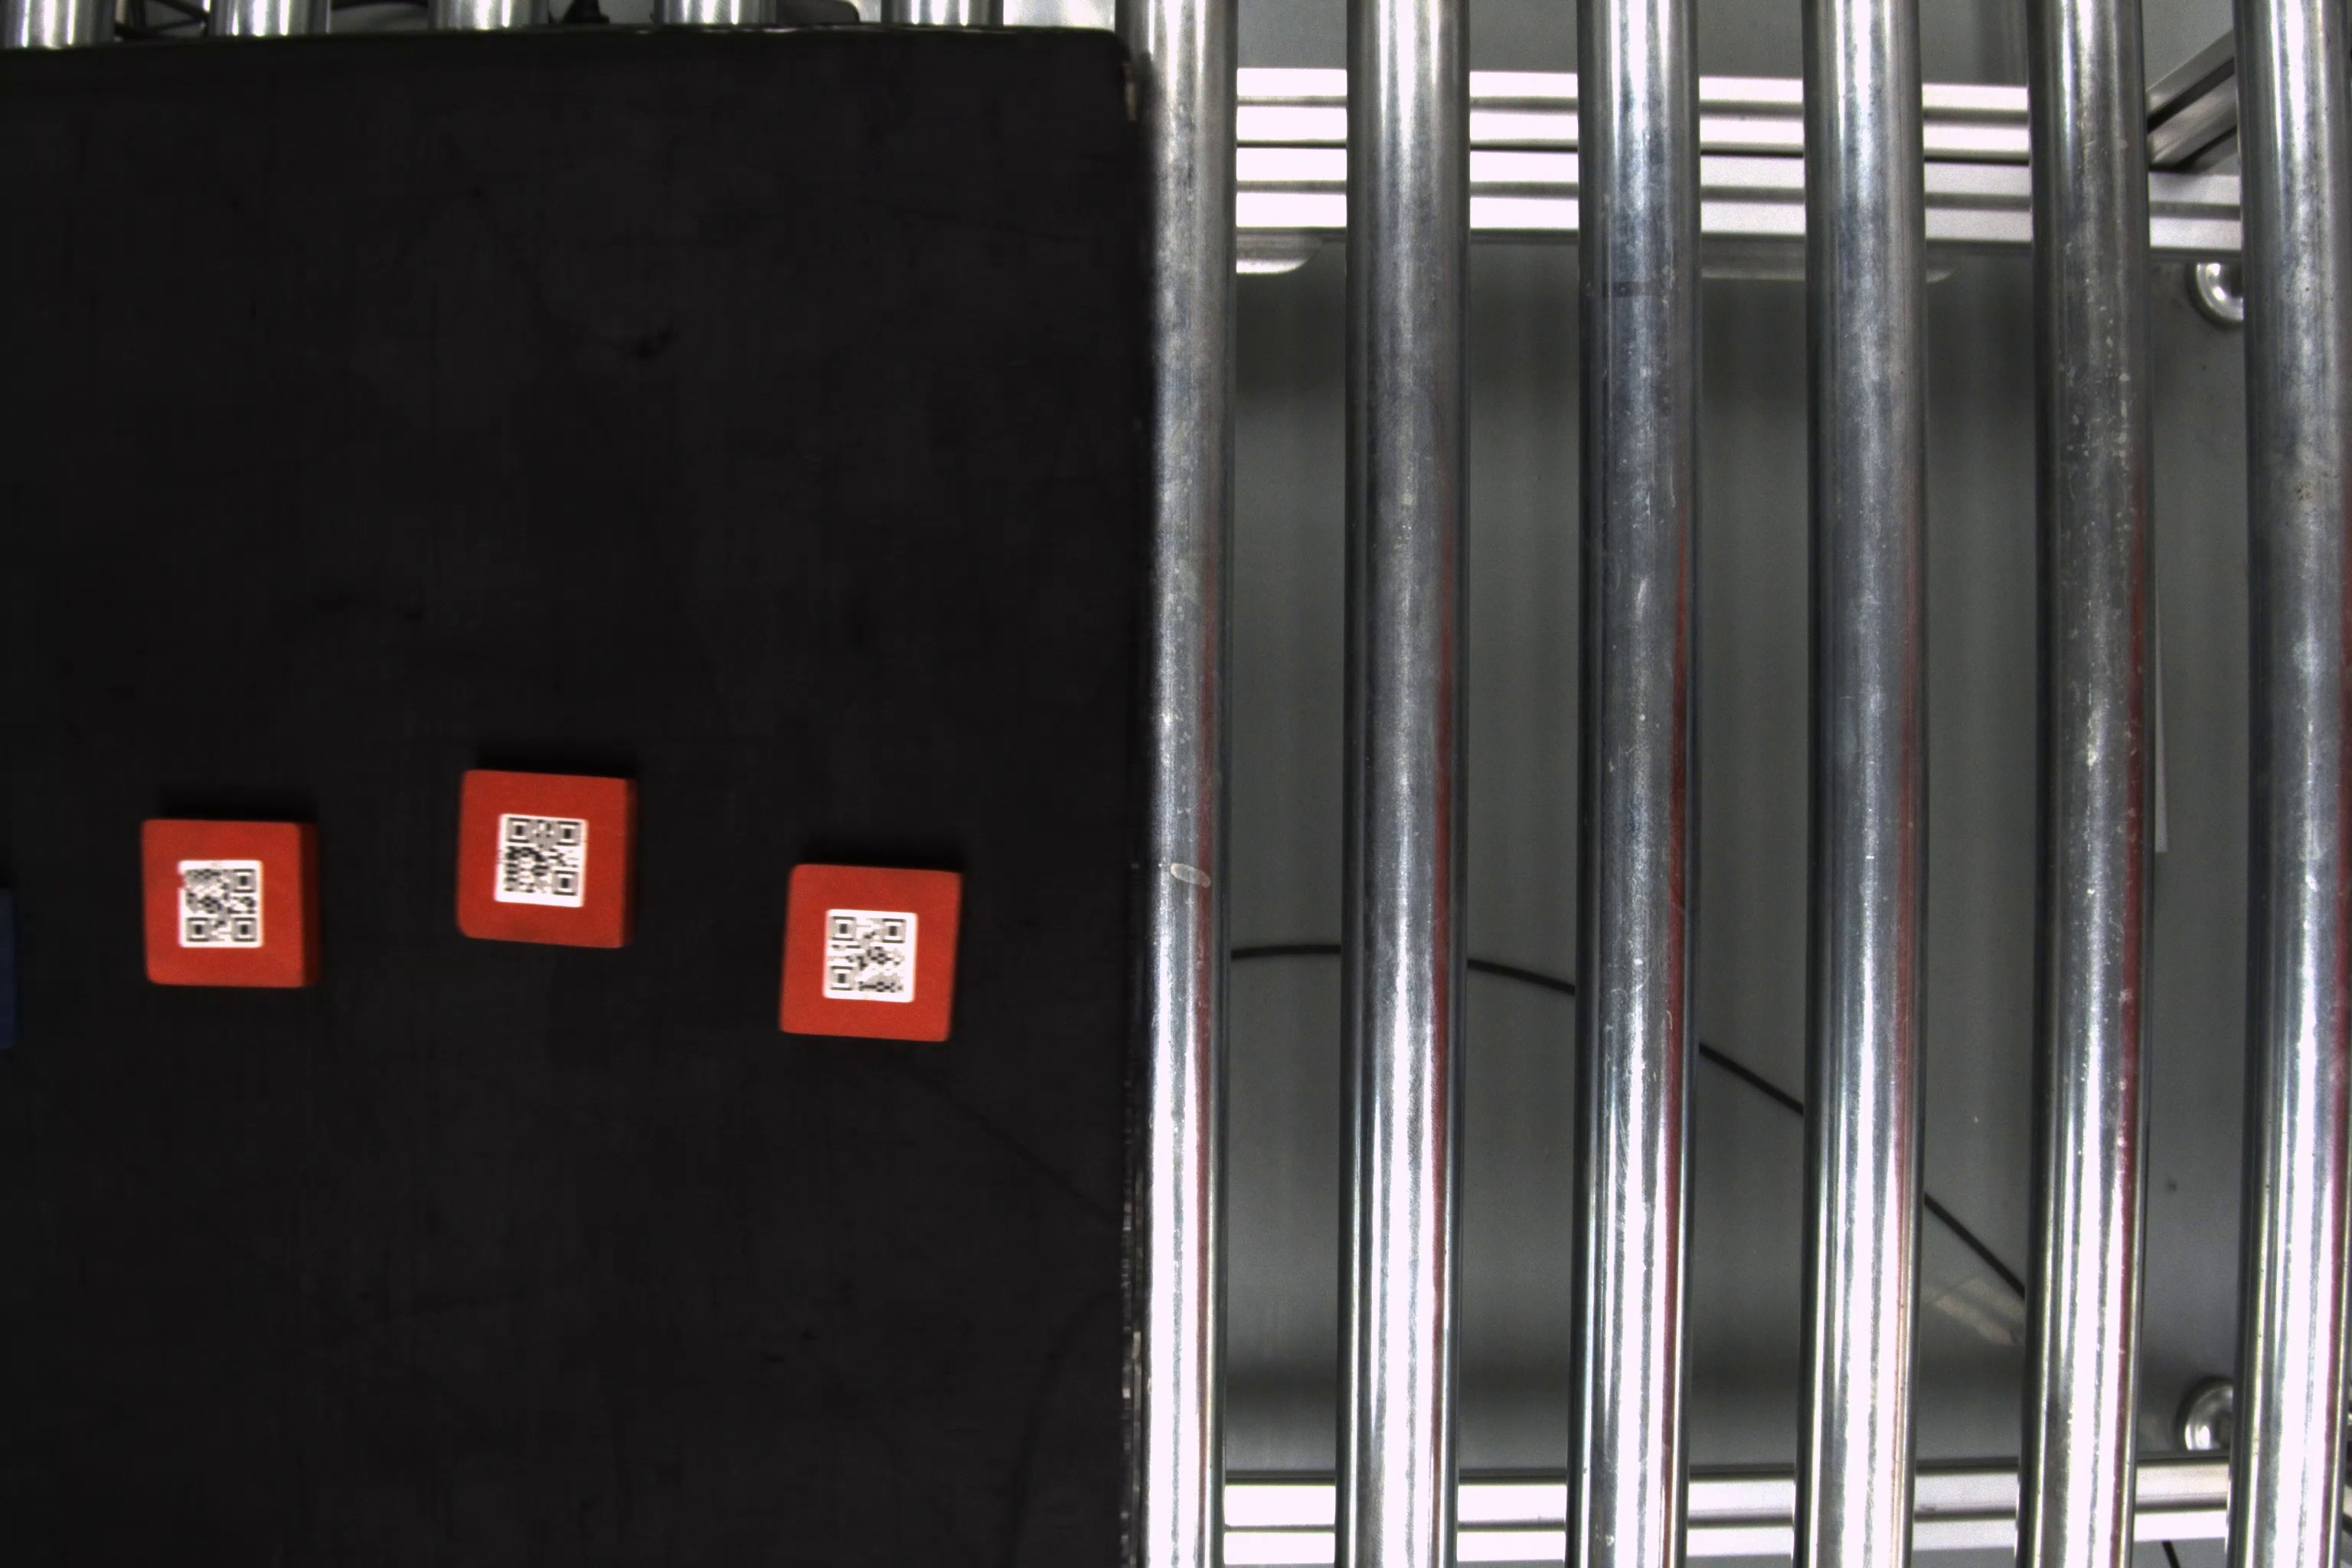wood: (779, 852, 968, 1048), (455, 763, 644, 954), (135, 810, 327, 996)
